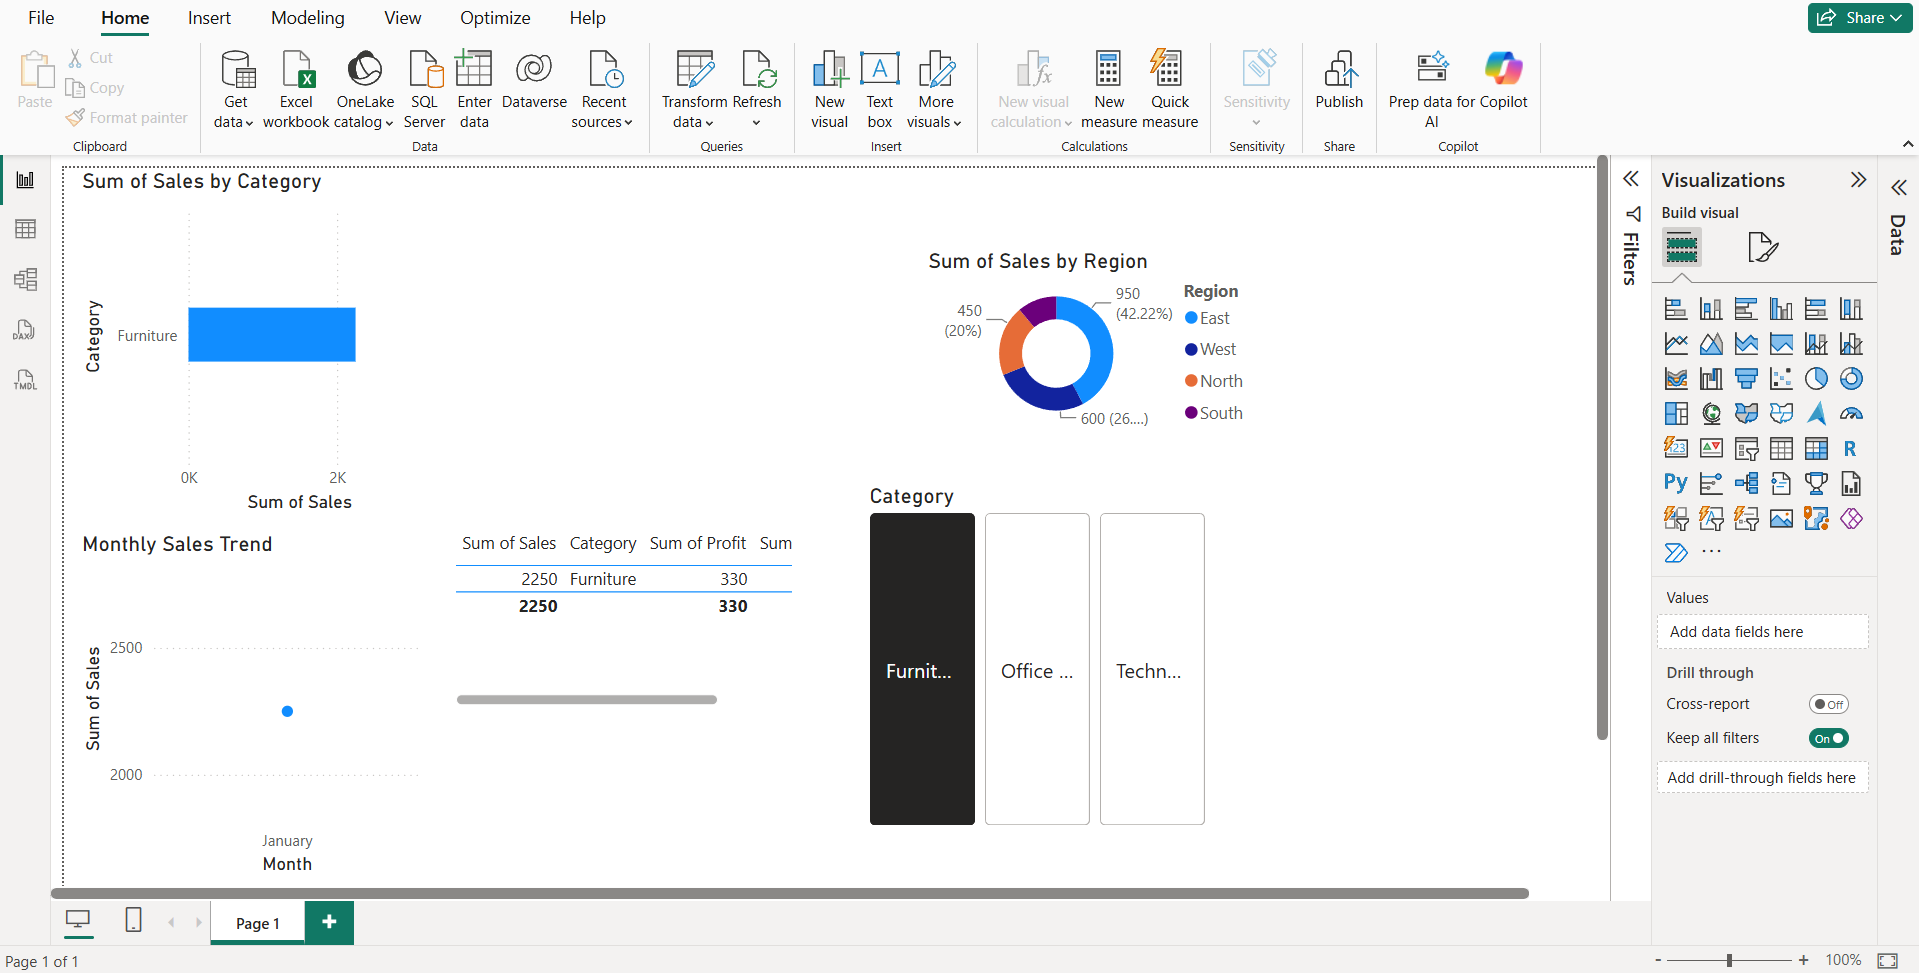

The dashboard page shown, as its layout file describes it:
{"tool":"powerbi","page":{"name":"Page 1","canvas":[1280,720],"ordinal":0},"visuals":[{"type":"clusteredBarChart","fields":{"Category":["cleaned_superstore.Category"],"Y":["Sum(cleaned_superstore.Sales)"]},"box":[22,29.3,326.5,330.2],"z":0},{"type":"lineChart","title":"Monthly Sales Trend","fields":{"Category":["cleaned_superstore.Order Date.Variation.Date Hierarchy.Month"],"Y":["Sum(cleaned_superstore.Sales)"]},"box":[435.3,311.8,385.2,358.3],"z":1000},{"type":"donutChart","fields":{"Y":["Sum(cleaned_superstore.Sales)"],"Category":["cleaned_superstore.Region"]},"box":[851.1,29.3,385.2,236],"z":2000},{"type":"tableEx","fields":{"Values":["Sum(cleaned_superstore.Sales)","cleaned_superstore.Category","Sum(cleaned_superstore.Profit)","Sum(cleaned_superstore.Quantity)"]},"box":[0,311.8,403.5,311.8],"z":3000},{"type":"advancedSlicerVisual","fields":{"Values":["cleaned_superstore.Category"]},"box":[874.3,280,362,295.9],"z":4000},{"type":"textbox","box":[511.1,29.3,256.8,64.8],"z":4001}]}

Visuals, with their boxes on the page's 1280x720 design canvas (x1, y1, x2, y2). These are canvas units, not pixel positions in the 1919x973 screenshot, which may show the page scaled, cropped or inside an application window:
clusteredBarChart - cleaned_superstore.Category x Sum(cleaned_superstore.Sales): box=[22, 29, 348, 360]
"Monthly Sales Trend" lineChart: box=[435, 312, 820, 670]
donutChart - Sum(cleaned_superstore.Sales) x cleaned_superstore.Region: box=[851, 29, 1236, 265]
tableEx - Sum(cleaned_superstore.Sales) x cleaned_superstore.Category: box=[0, 312, 404, 624]
advancedSlicerVisual - cleaned_superstore.Category: box=[874, 280, 1236, 576]
textbox: box=[511, 29, 768, 94]
